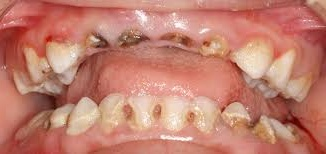Caries: (86, 24, 229, 56), (206, 110, 273, 150), (111, 97, 173, 125), (180, 102, 200, 132)
